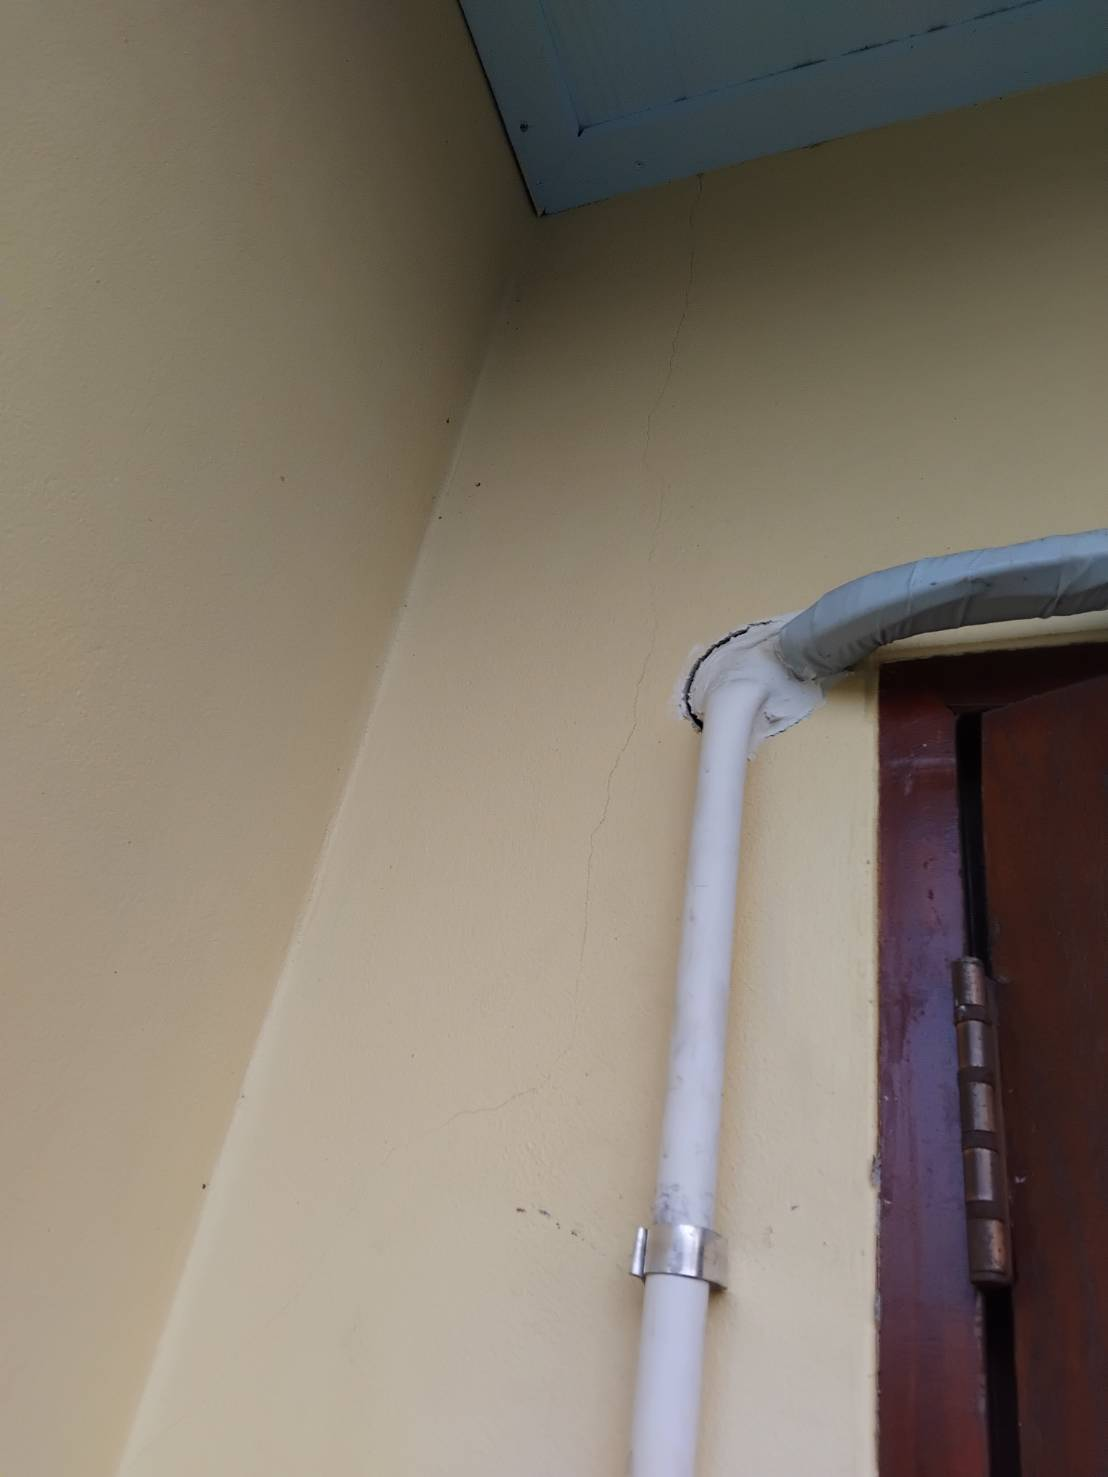Low: (327, 528, 736, 1265)
